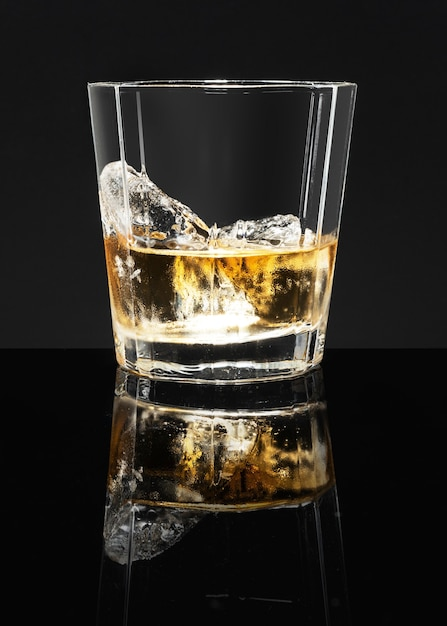alcohol: (83, 76, 359, 402)
